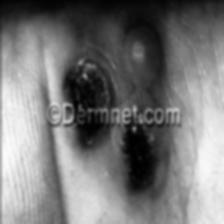Toxin: (81, 128, 161, 184), (56, 63, 106, 104)
